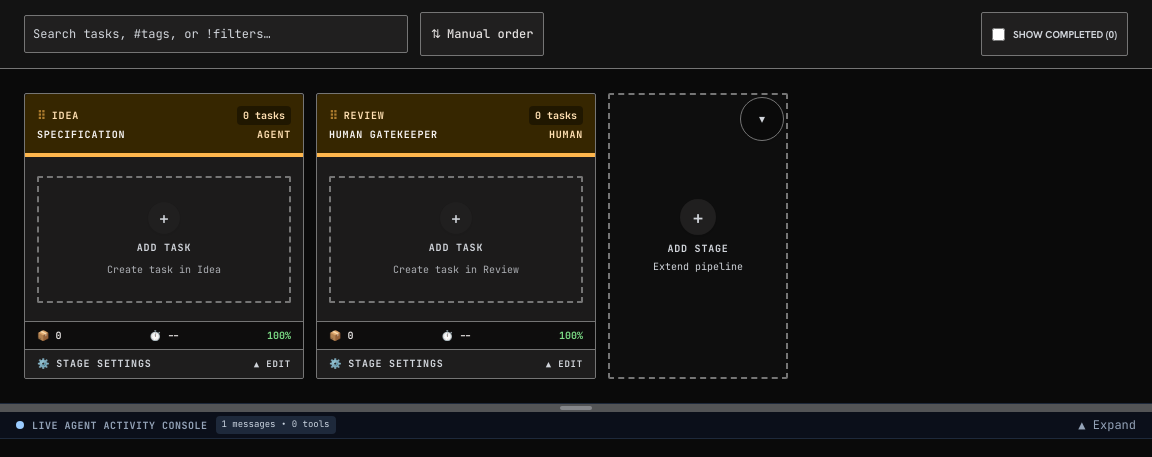
Configure stage drawer is confined to its stage column (footer-overlap contract)
Open the Configure drawer for the first stage
Click the button with aria-label "Configure stage Idea" at (104, 364), box [25,350,303,378]
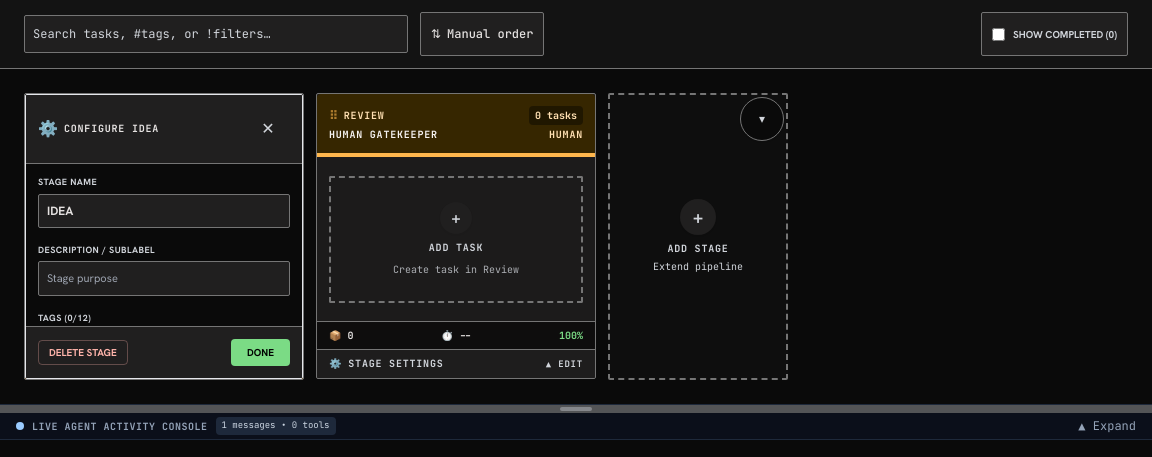
Expected: the element named "Delete stage Idea" is shown, [24,93,304,380]
Expected: the button with aria-label "Delete stage Idea" is shown, [38,340,128,365]
Expected: the button with aria-label "Save and close settings for Idea" is shown, [231,339,290,366]
